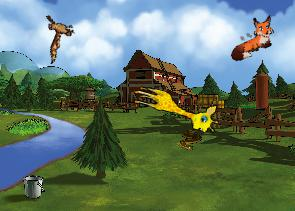eagle: (32, 7, 83, 64)
fox: (221, 11, 282, 64)
giraffe: (128, 83, 222, 136)
